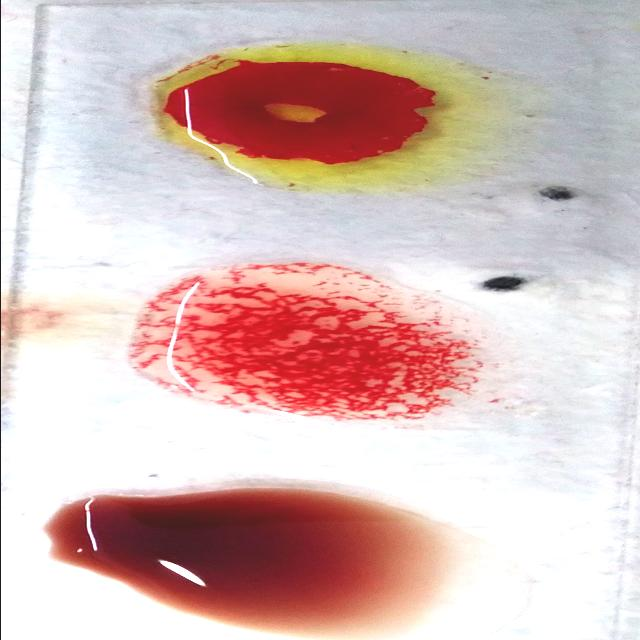B: (140, 40, 536, 192)
D: (128, 258, 504, 428)
